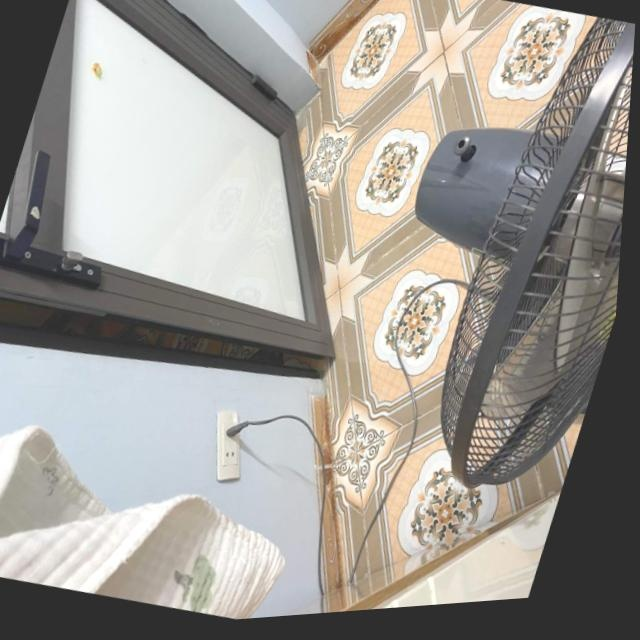outlet: (195, 404, 259, 488)
